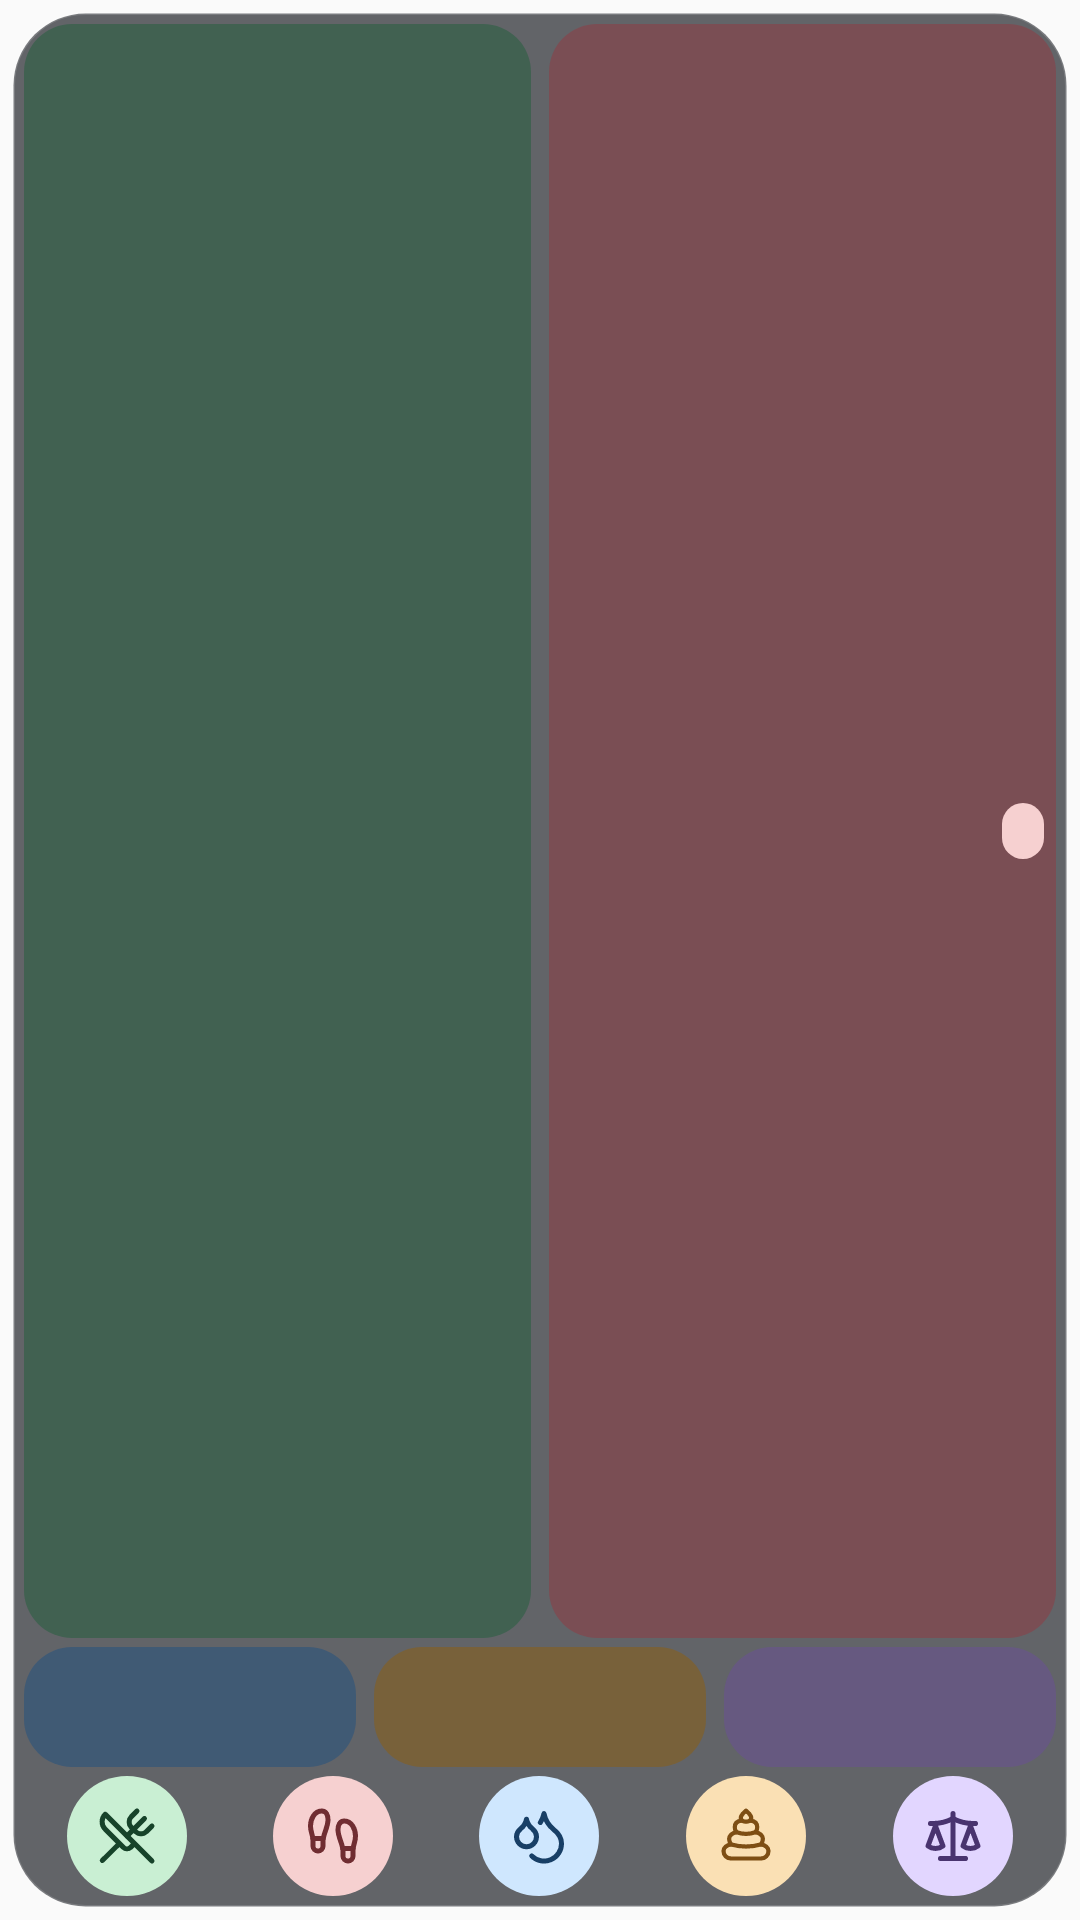

Icons on this 1080x1920 Android screen, each with its box as (x1, y1, x2, y2):
Food: (67, 1776, 187, 1896)
Movement: (273, 1776, 393, 1896)
Poop: (686, 1776, 806, 1896)
Water: (479, 1776, 599, 1896)
Weight: (893, 1776, 1013, 1896)
